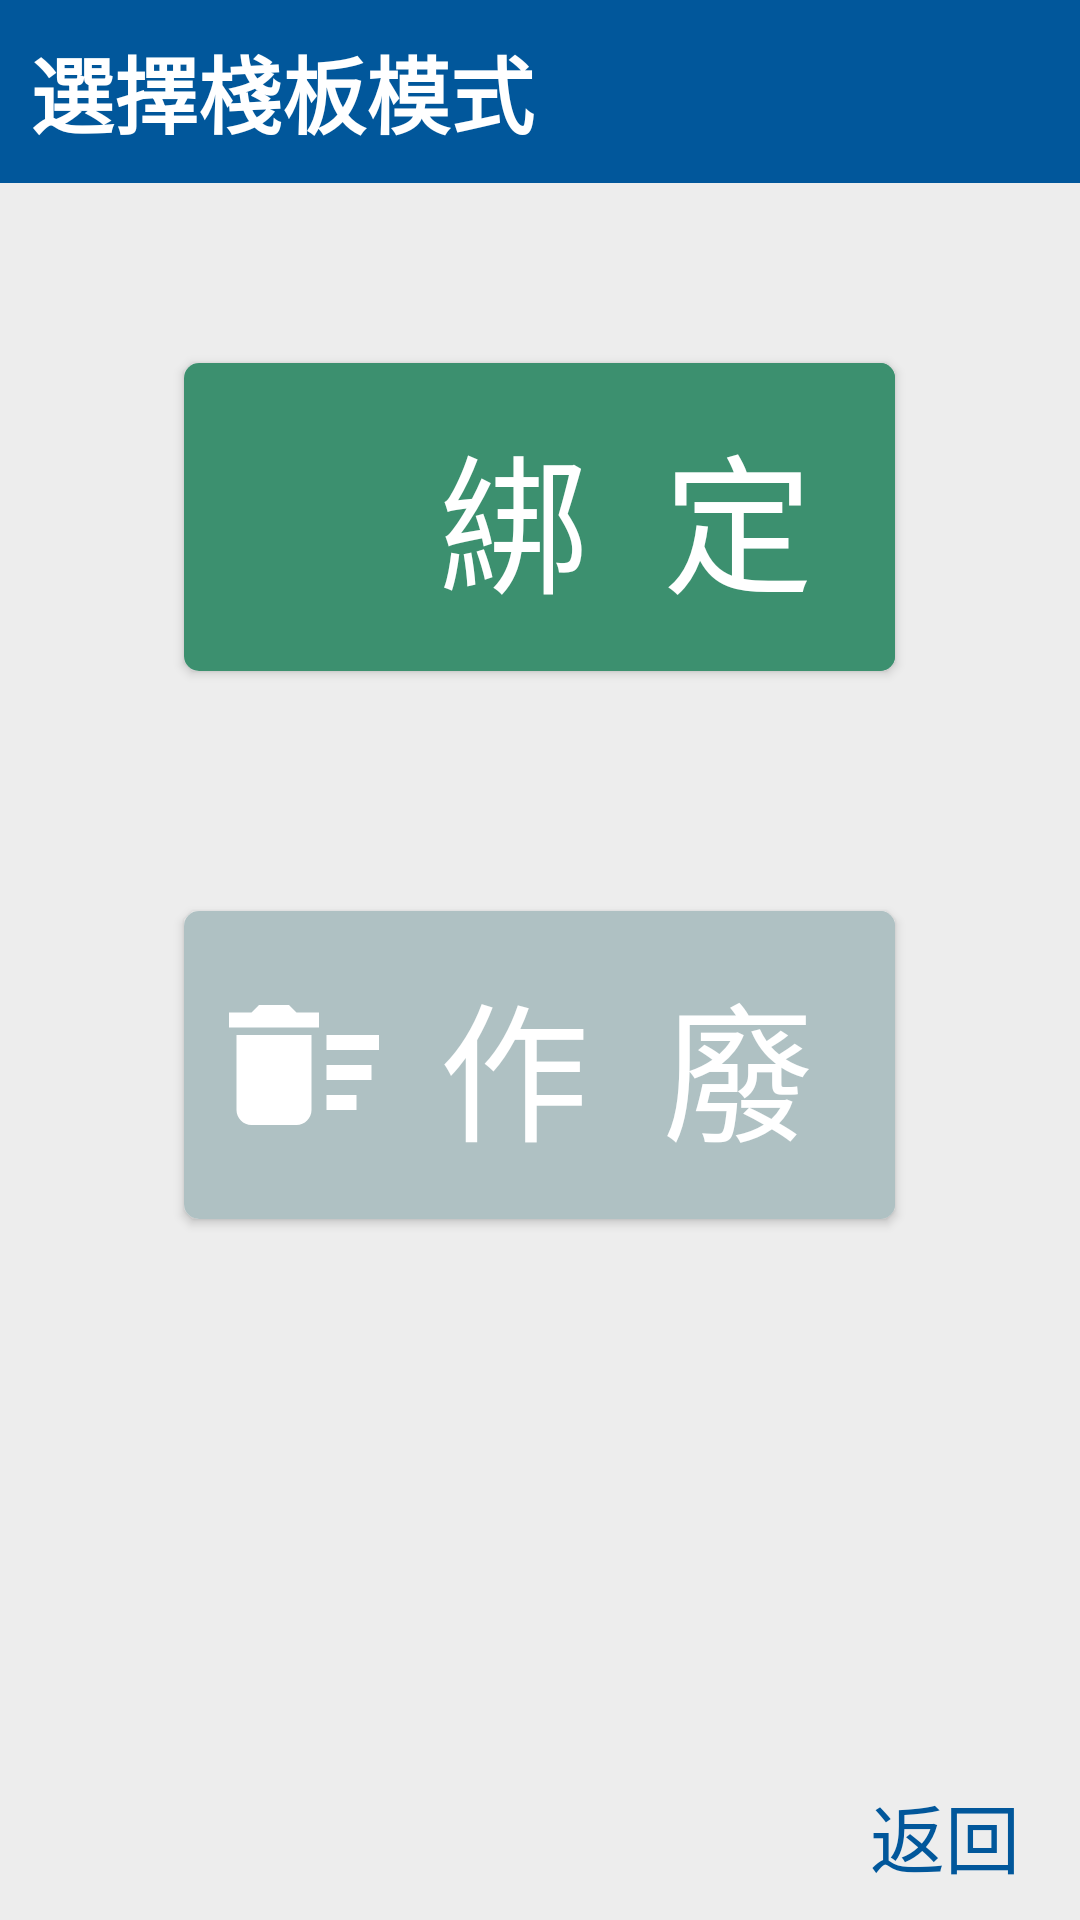

Icon bounding boxes for this 1080x1920 phone screenshot, format region(x1, y1, x2, y2):
delete sweep: region(229, 1005, 379, 1125)
